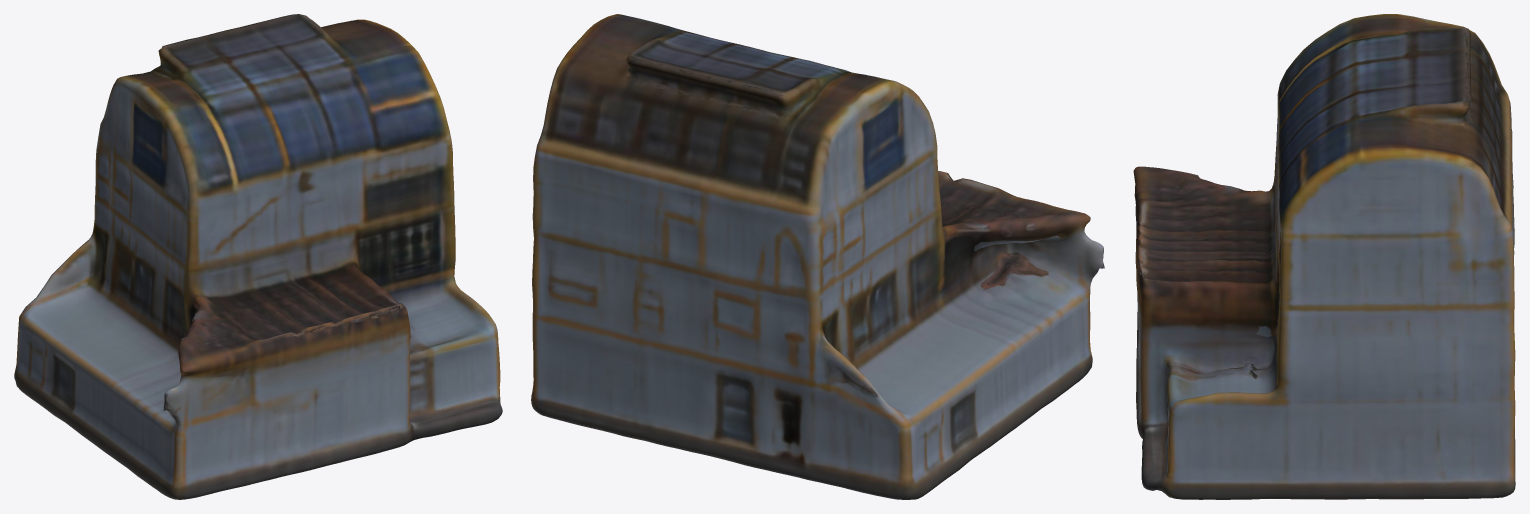
Rendered from b7c4ec396f0c_a9b6b80ea2b6_mycelial_solarpunk_.glb.
3 renders of one model, left to right at view 1: azimuth 30°, elevation 25°; view 2: azimuth 150°, elevation 25°; view 3: azimuth 270°, elevation 25°, orthographic. The views are drawn at different scales.
Parts seen in each view (by area): view 1: mesh; view 2: mesh; view 3: mesh.
Boxes of the visible parts, box(x1,y1,x2,y2) form: mesh: box(14, 14, 502, 499); mesh: box(531, 14, 1104, 499); mesh: box(1133, 14, 1515, 499).
Size of the model in its own units: 0.9967 by 0.8622 by 0.8269.
1 material, 1 textured.
